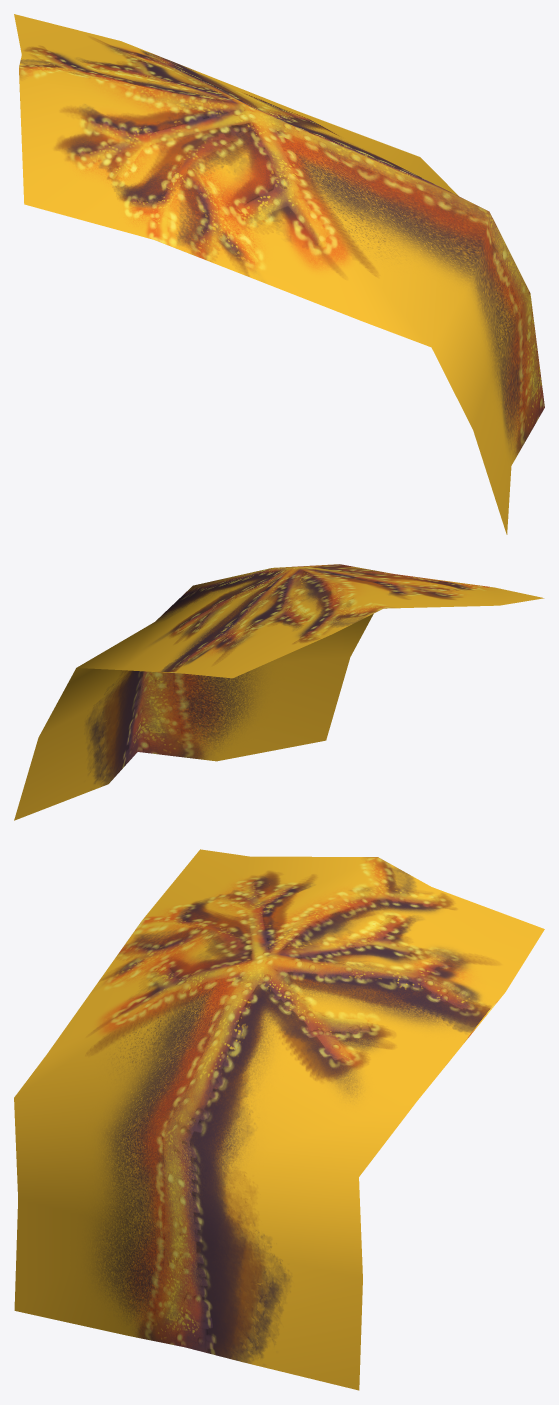
The model's file is ACROPORA RED.fbx.
3 renders of one model, top to bottom at view 1: azimuth 30°, elevation 25°; view 2: azimuth 150°, elevation 25°; view 3: azimuth 270°, elevation 25°, orthographic. The views are drawn at different scales.
Parts seen in each view (by area): view 1: Plane.002; view 2: Plane.002; view 3: Plane.002.
Boxes of the visible parts, x1,y1,x2,y2 form: Plane.002: [14, 14, 544, 534]; Plane.002: [14, 564, 544, 820]; Plane.002: [14, 849, 544, 1390].
Size of the model in its own units: 289 by 188 by 270.
